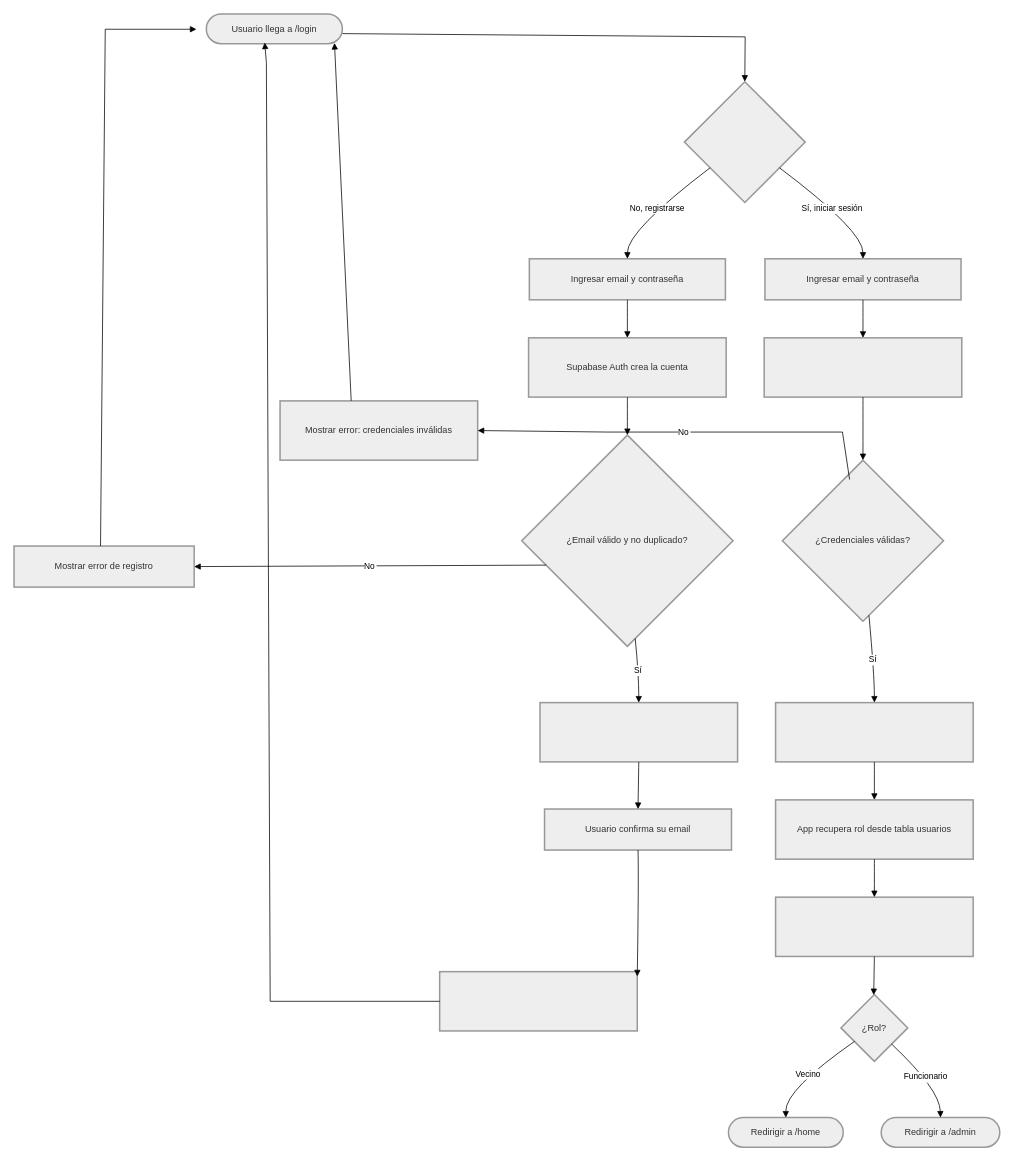
Image size: 1013x1161. Some labels were removed from this diagram. Here are the shapes that lost their labels. From the top down, the centre of each, then its label:
[744,142]: ¿Tiene cuenta?
[862,367]: Supabase Auth valida credenciales
[638,731]: Enviar correo de verificación
[874,731]: Supabase emite sesión con JWT
[874,926]: Frontend almacena la sesión
[538,1001]: Crear registro en tabla usuarios como Vecino
